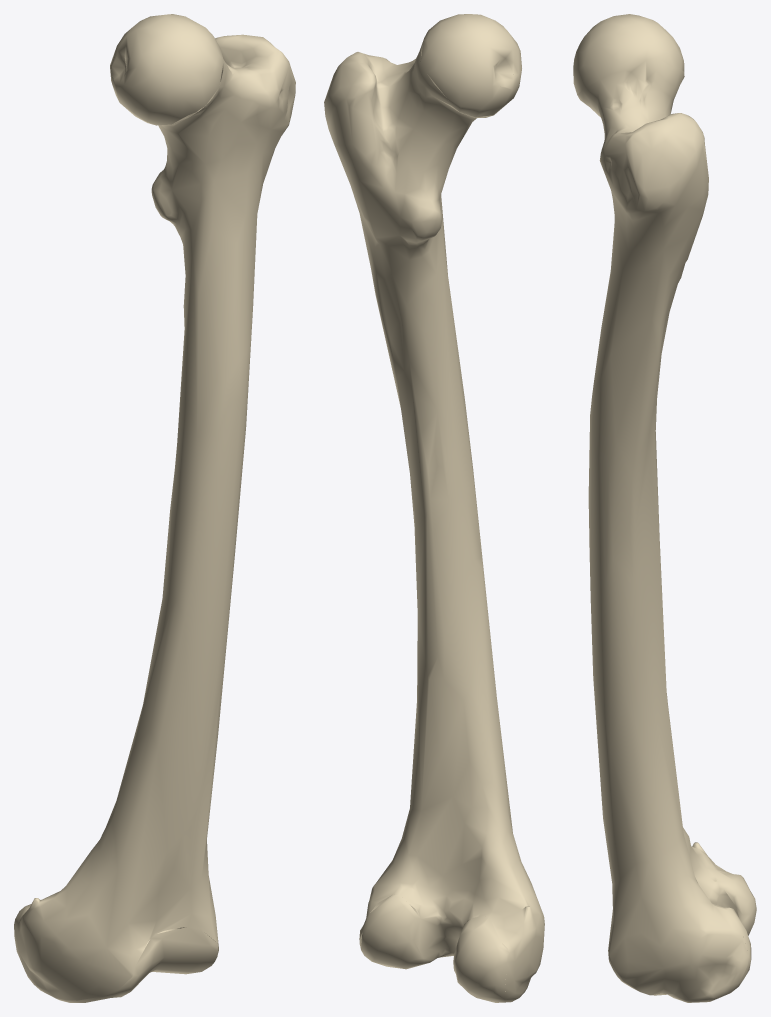
File: esqueleto-femur-l.glb
3 renders of one model, left to right at view 1: azimuth 30°, elevation 25°; view 2: azimuth 150°, elevation 25°; view 3: azimuth 270°, elevation 25°, orthographic. The views are drawn at different scales.
Visible parts, largest first — view 1: Femur.l; view 2: Femur.l; view 3: Femur.l.
Part boxes in pixels (x1=…): Femur.l: x1=14, y1=14, x2=295, y2=1002; Femur.l: x1=324, y1=14, x2=544, y2=1002; Femur.l: x1=573, y1=14, x2=756, y2=1002.
Bounding box in the file's own units: 0.1166 × 0.4544 × 0.0778.
